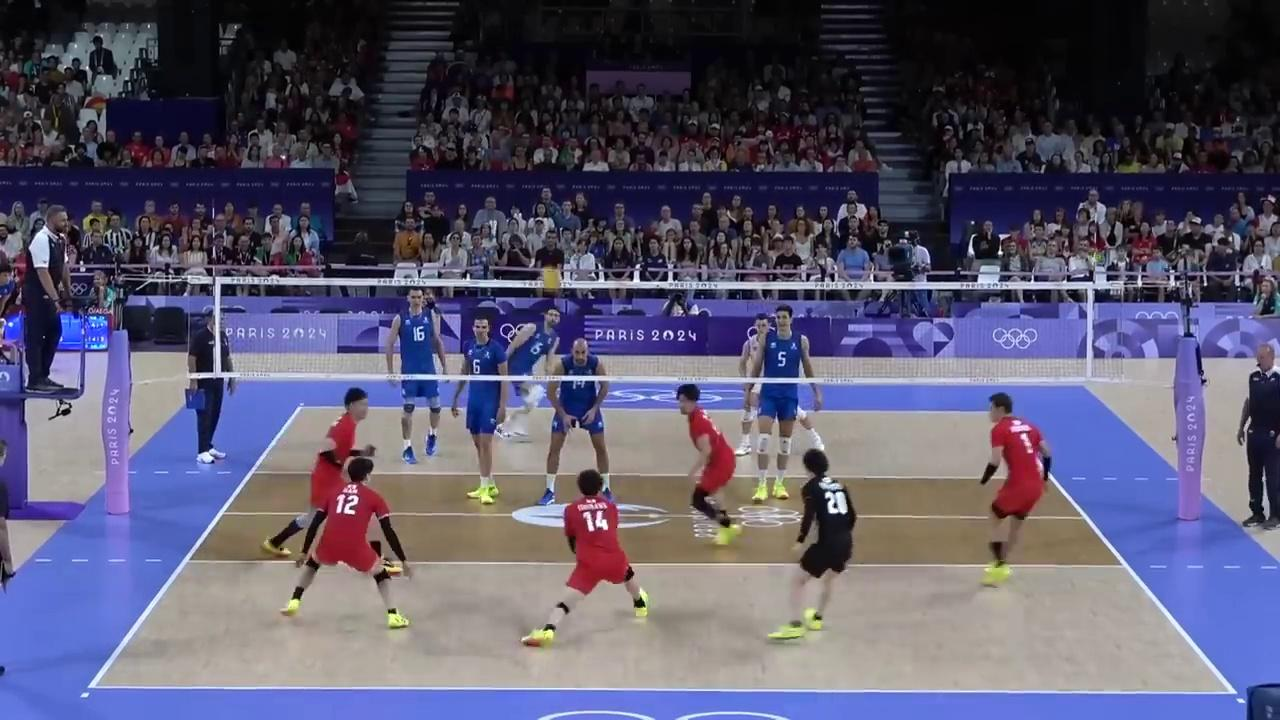ball: (543, 270, 562, 292)
